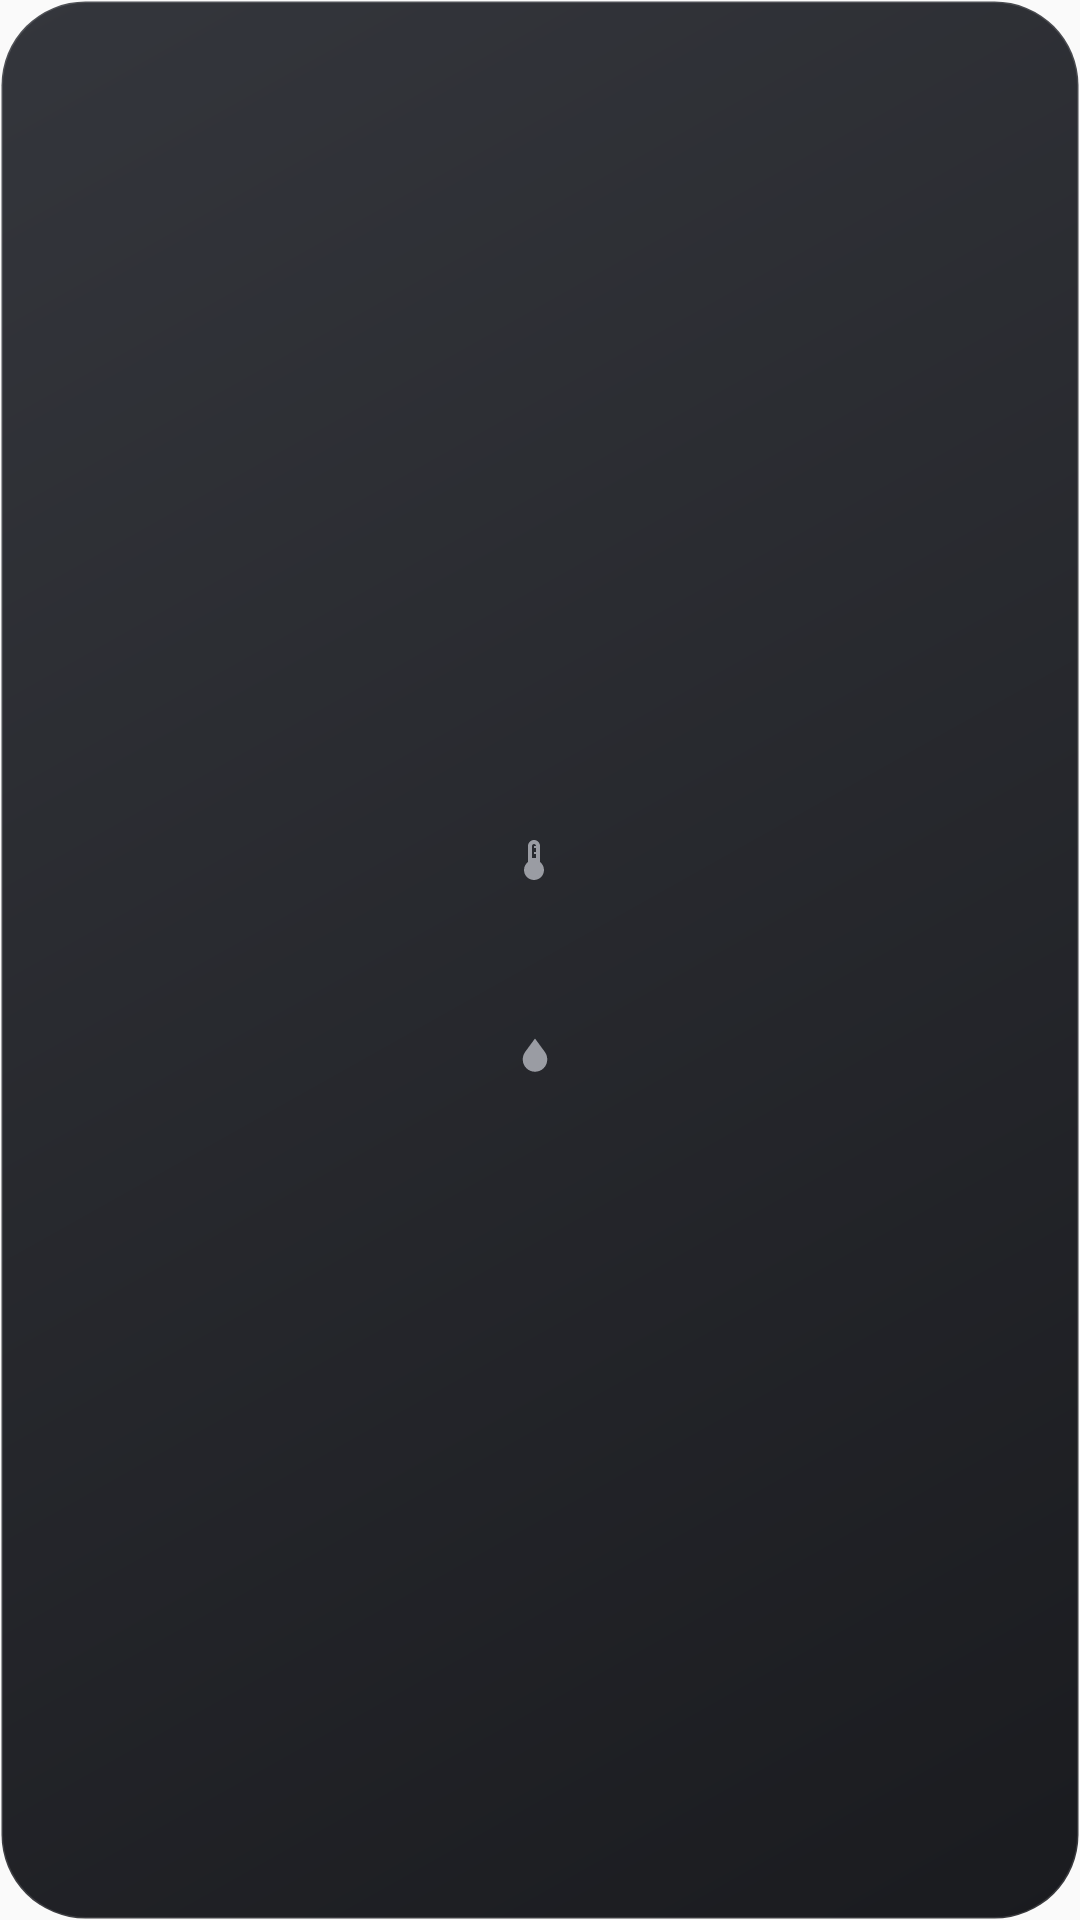

Named icons in this screenshot (1080×1920) and their centers, point (x, y):
drop: point (535, 1055)
thermo: point (534, 860)
